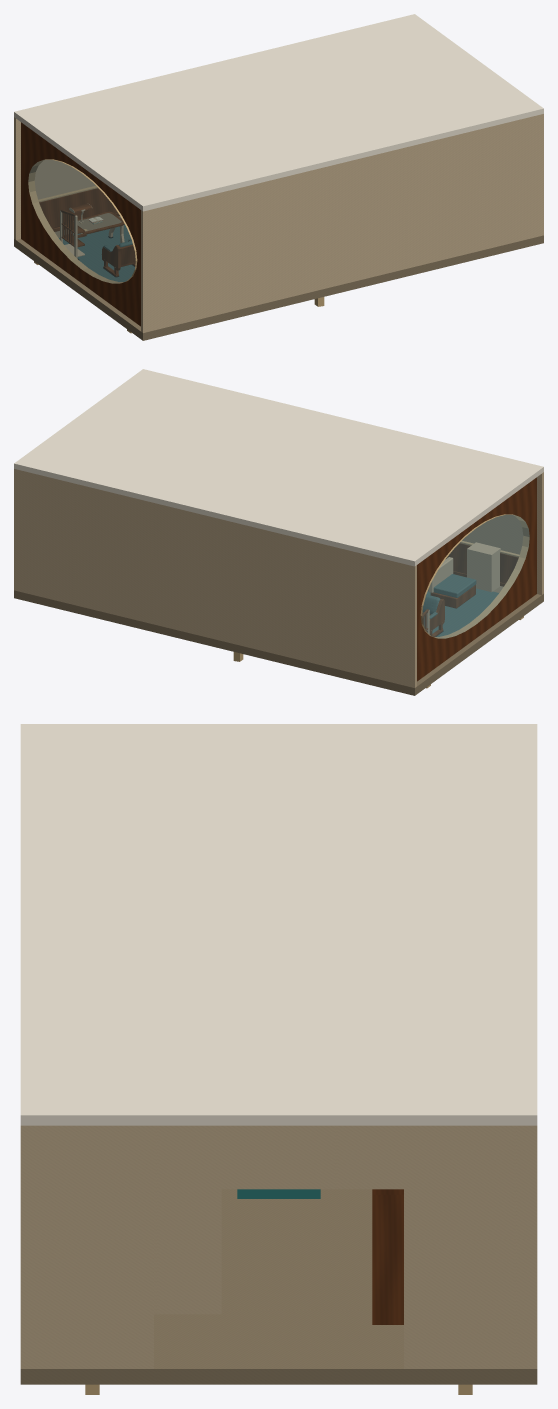
File: NG488_AtriumInterior_r001.glb
3 renders of one model, top to bottom at view 1: azimuth 30°, elevation 25°; view 2: azimuth 150°, elevation 25°; view 3: azimuth 270°, elevation 25°, orthographic. The views are drawn at different scales.
Parts seen in each view (by area): view 1: NG488_RuntimeBatch_001, NG488_OvalAtriumGlass, NG488_RuntimeBatch_002, NG488_RoomFloor, NGA_488_OutlookFloorInlay, NGA_488_South_LowPanel, NG488_RuntimeBatch_004, NG488_RuntimeBatch_026, NG488_RuntimeBatch_047, NG488_RuntimeBatch_027, NG488_LibraryStudyEdge__SINGLE_inset_stone_writing_surface; view 2: NG488_RuntimeBatch_001, NG488_OvalAtriumGlass, NG488_RuntimeBatch_002, NG488_RoomFloor, NG488_RuntimeBatch_004, NGA_488_OutlookFloorInlay, NGA_488_North_LowPanel, NGA_488_ViewSeat_Cushion, NGA_488_ViewSeat_Base; view 3: NG488_RuntimeBatch_001, NG488_RoomFloor, NG488_RuntimeBatch_002, NG488_RuntimeBatch_010.
Part boxes in pixels (x1,y1,x2,y2): NG488_RuntimeBatch_001: [14, 14, 543, 332]; NG488_OvalAtriumGlass: [28, 160, 135, 283]; NG488_RuntimeBatch_002: [21, 122, 140, 326]; NG488_RoomFloor: [14, 216, 543, 340]; NGA_488_OutlookFloorInlay: [59, 225, 134, 281]; NGA_488_South_LowPanel: [39, 188, 117, 228]; NG488_RuntimeBatch_004: [28, 159, 324, 333]; NG488_RuntimeBatch_026: [60, 209, 124, 246]; NG488_RuntimeBatch_047: [102, 241, 135, 276]; NG488_RuntimeBatch_027: [60, 211, 124, 258]; NG488_LibraryStudyEdge__SINGLE_inset_stone_writing_surface: [77, 213, 121, 231]; NG488_RuntimeBatch_001: [14, 369, 543, 687]; NG488_OvalAtriumGlass: [422, 515, 529, 638]; NG488_RuntimeBatch_002: [417, 477, 536, 681]; NG488_RoomFloor: [14, 586, 543, 695]; NG488_RuntimeBatch_004: [233, 514, 529, 688]; NGA_488_OutlookFloorInlay: [426, 588, 498, 636]; NGA_488_North_LowPanel: [446, 543, 518, 583]; NGA_488_ViewSeat_Cushion: [433, 574, 476, 597]; NGA_488_ViewSeat_Base: [430, 585, 475, 608]; NG488_RuntimeBatch_001: [20, 724, 537, 1368]; NG488_RoomFloor: [20, 1189, 537, 1384]; NG488_RuntimeBatch_002: [372, 1189, 403, 1324]; NG488_RuntimeBatch_010: [237, 1189, 320, 1198].
Bounding box in the file's own units: 12.9 × 4.91 × 7.2.
39 materials, 20 textured.
